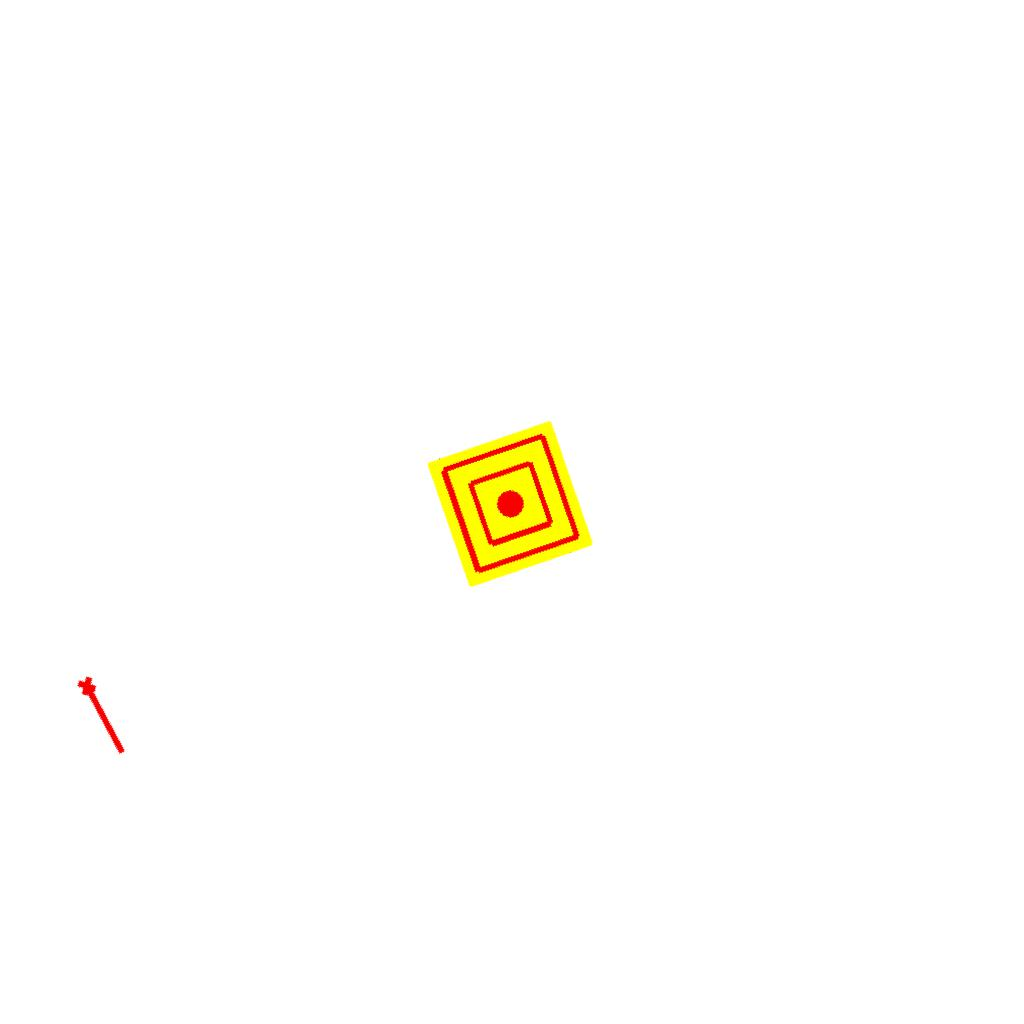ASR_Ansaugoeffnung: (73, 671, 135, 760)
NAM-Nichtautomatischer_Melder: (426, 420, 594, 588)
